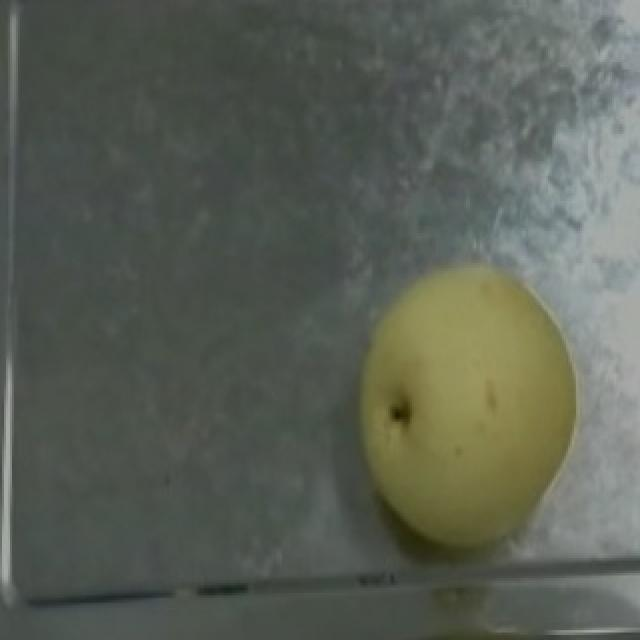Fruit: (332, 240, 590, 560)
